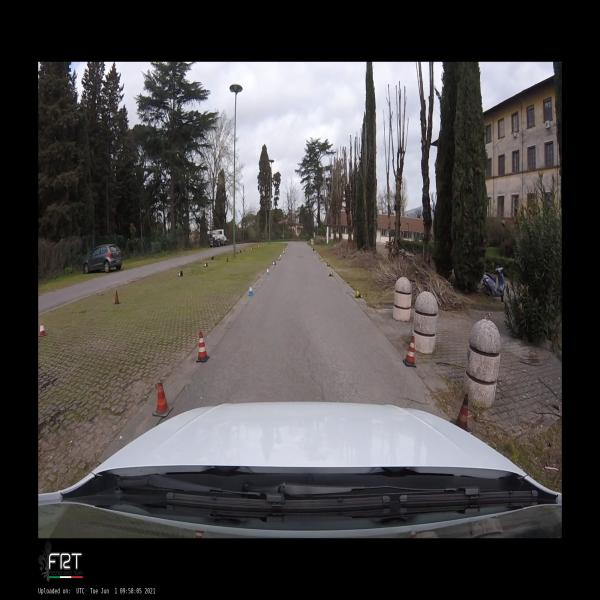blue_cone: (248, 284, 254, 296), (266, 268, 270, 276), (272, 261, 276, 265)
large_orange_cone: (196, 332, 210, 362), (403, 336, 416, 368)
orange_cone: (38, 319, 48, 337), (178, 271, 183, 276), (203, 262, 208, 267)
unknown_cone: (450, 394, 471, 432), (152, 380, 173, 417), (113, 291, 121, 304), (226, 256, 229, 262), (211, 256, 214, 260), (244, 248, 247, 252), (236, 251, 238, 254), (240, 250, 241, 252)
yellow_cone: (355, 290, 363, 298), (328, 271, 333, 277), (326, 262, 330, 266), (320, 256, 322, 261)
